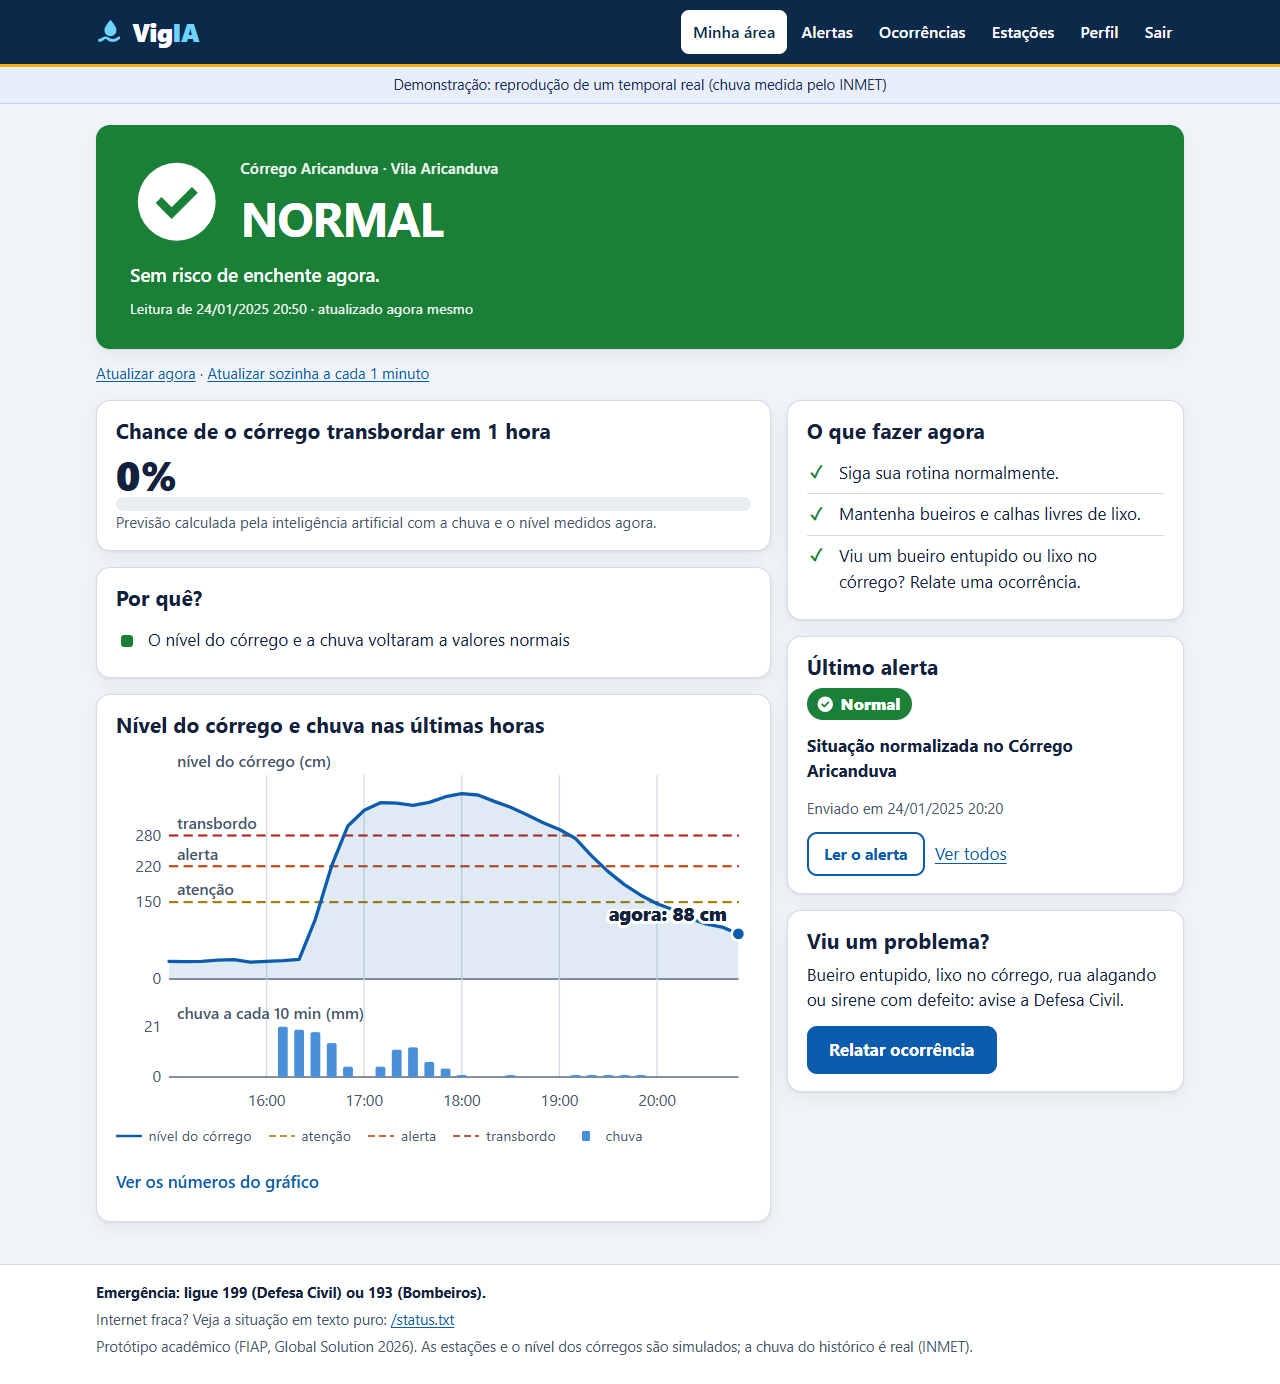

Layout of this report page (visuals, bound fields, positions):
{"tool":"powerbi","page":{"name":"Página 1","canvas":[1920,1080],"ordinal":0},"visuals":[{"type":"htmlContent443BE3AD55E043BF878BED274D3A6855","fields":{"content":["Medidas.VigIA Painel HTML"]},"box":[0,0,1920,1079.6],"z":0},{"type":"slicer","fields":{"Values":["dim_data.data"]},"box":[42.3,134.2,300.5,52.5],"z":1},{"type":"slicer","fields":{"Values":["dim_estacao.nome"]},"box":[367.7,137.1,356,52.5],"z":2}]}

Visuals, with their boxes on the page's 1920x1080 design canvas (x1, y1, x2, y2). These are canvas units, not pixel positions in the 1280x1384 screenshot, which may show the page scaled, cropped or inside an application window:
htmlContent443BE3AD55E043BF878BED274D3A6855 - Medidas.VigIA Painel HTML: (x1=0, y1=0, x2=1920, y2=1080)
slicer - dim_data.data: (x1=42, y1=134, x2=343, y2=187)
slicer - dim_estacao.nome: (x1=368, y1=137, x2=724, y2=190)
